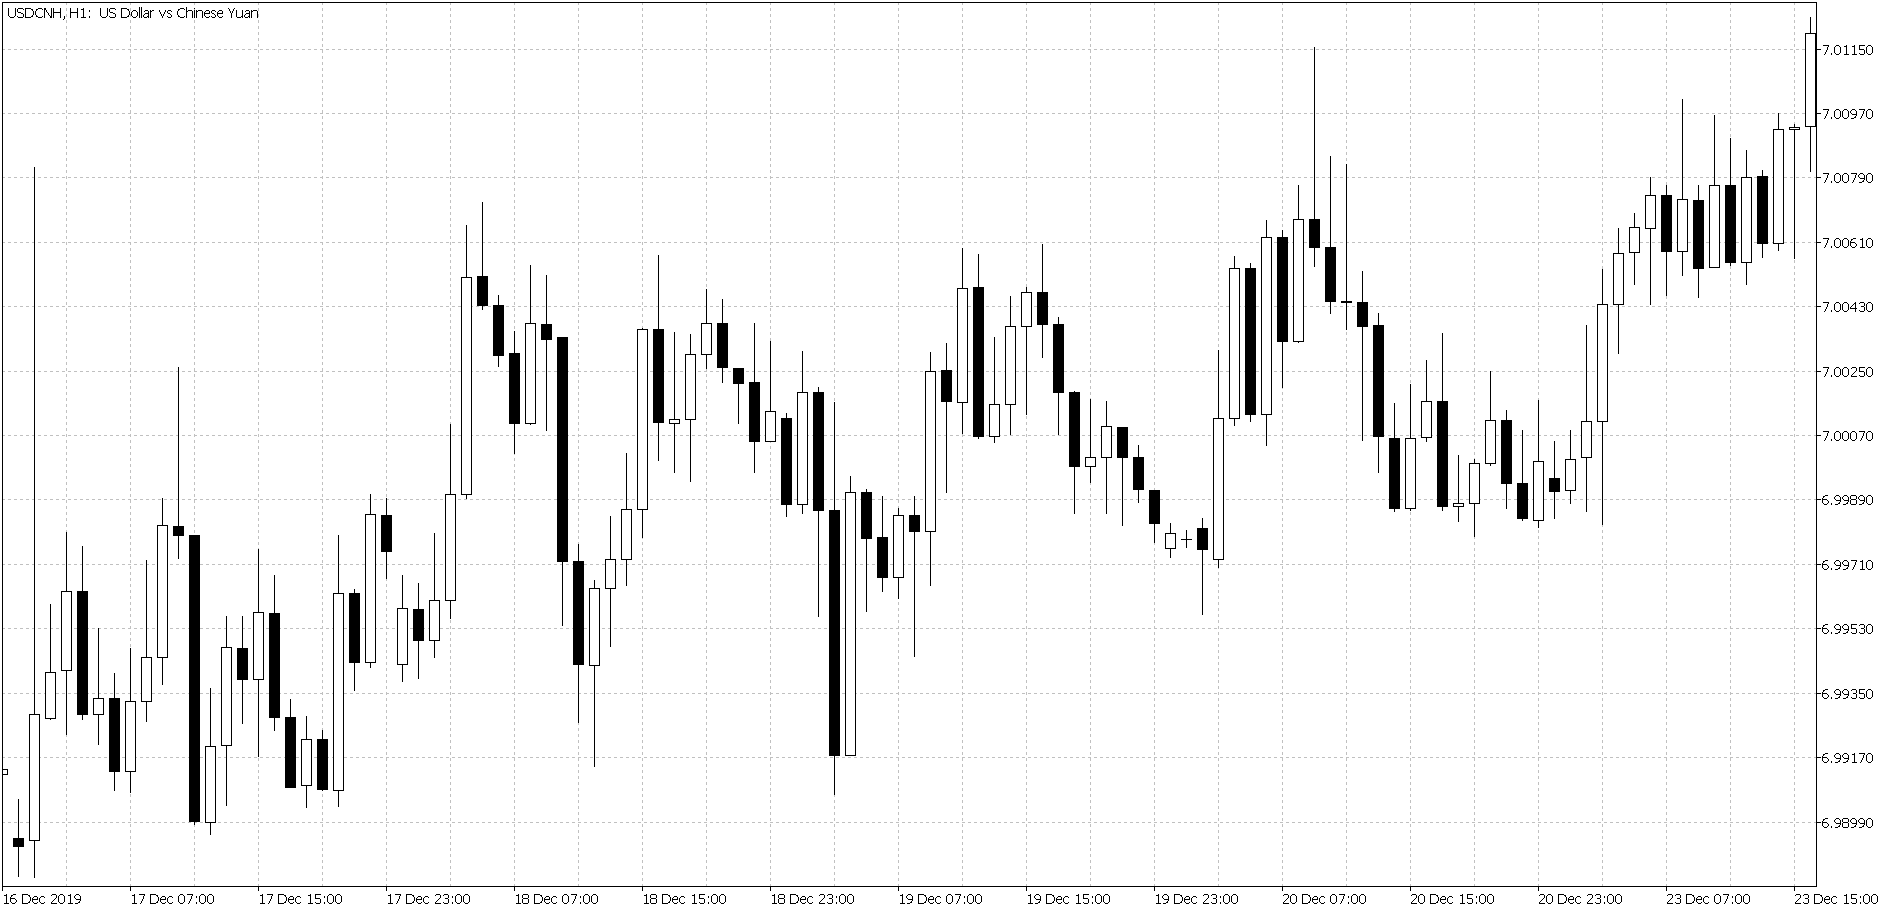3blackcrows: (475, 186, 523, 444)
3whitesoldiers: (1565, 271, 1611, 517)
morningStar: (1436, 335, 1482, 542)
